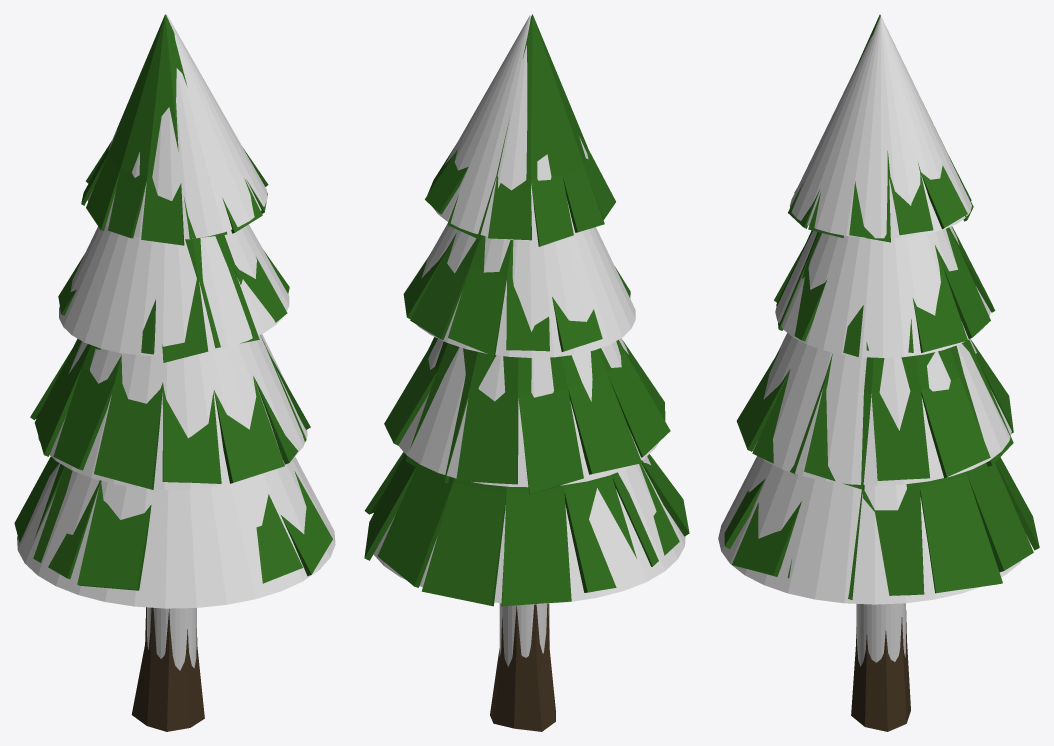
File: tree.glb
3 views of the same model, side by side, from view 1: azimuth 30°, elevation 25°; view 2: azimuth 150°, elevation 25°; view 3: azimuth 270°, elevation 25° (orthographic).
Parts seen in each view (by area): view 1: Tree2, Physics.Cylinder.004, Physics.Cylinder.002, Physics.Cylinder.003, Physics.Cylinder, Physics.Cylinder.001; view 2: Tree2, Physics.Cylinder.002, Physics.Cylinder, Physics.Cylinder.003, Physics.Cylinder.004, Physics.Cylinder.001; view 3: Tree2, Physics.Cylinder, Physics.Cylinder.004, Physics.Cylinder.003, Physics.Cylinder.002, Physics.Cylinder.001.
Part boxes in pixels (<box>): Tree2: <box>14,14,332,731</box>; Physics.Cylinder.004: <box>17,457,335,608</box>; Physics.Cylinder.002: <box>59,224,289,355</box>; Physics.Cylinder.003: <box>38,334,307,489</box>; Physics.Cylinder: <box>87,14,267,239</box>; Physics.Cylinder.001: <box>147,607,196,670</box>; Tree2: <box>364,14,689,731</box>; Physics.Cylinder.002: <box>417,225,635,357</box>; Physics.Cylinder: <box>433,15,588,240</box>; Physics.Cylinder.003: <box>398,338,658,487</box>; Physics.Cylinder.004: <box>368,456,685,604</box>; Physics.Cylinder.001: <box>499,603,549,729</box>; Tree2: <box>724,14,1039,731</box>; Physics.Cylinder: <box>790,16,971,238</box>; Physics.Cylinder.004: <box>718,456,1030,604</box>; Physics.Cylinder.003: <box>752,333,1011,485</box>; Physics.Cylinder.002: <box>775,226,990,357</box>; Physics.Cylinder.001: <box>856,603,905,666</box>.
Size of the model in its own units: 7.35 by 17.97 by 7.49.
